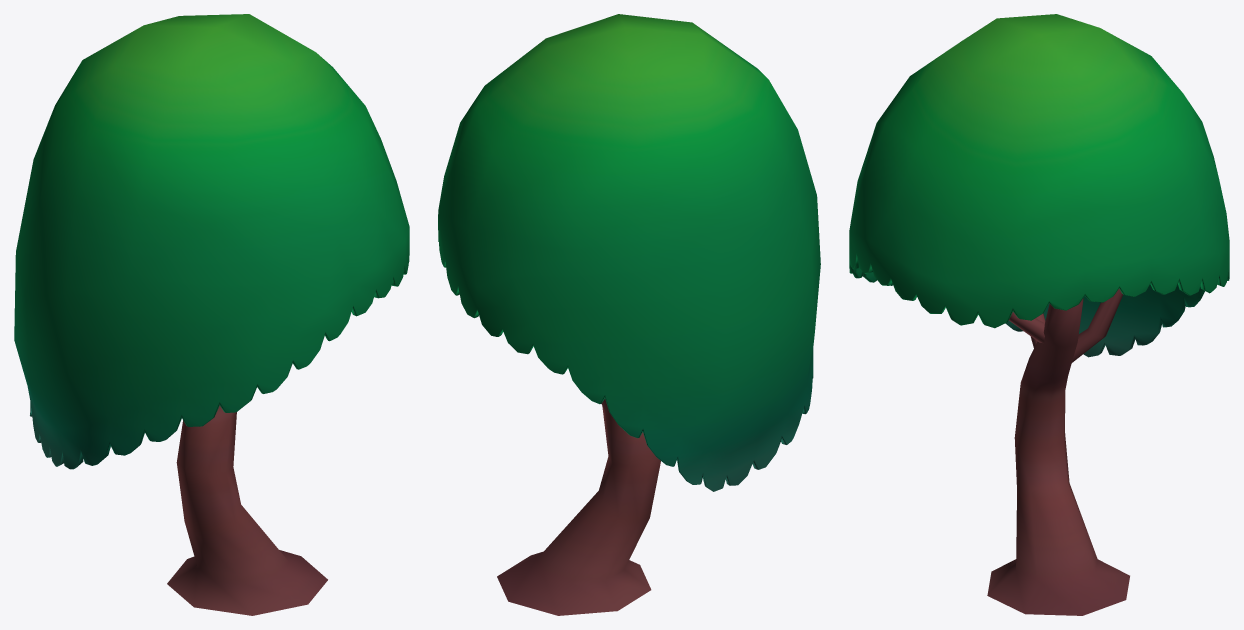
Rendered from arboles9.fbx.
3 views of the same model, side by side, from view 1: azimuth 30°, elevation 25°; view 2: azimuth 150°, elevation 25°; view 3: azimuth 270°, elevation 25° (orthographic). The views are drawn at different scales.
Visible parts, largest first — view 1: Tree.018_Base_Material_0.003; view 2: Tree.018_Base_Material_0.003; view 3: Tree.018_Base_Material_0.003.
Part boxes in pixels (<box>): Tree.018_Base_Material_0.003: <box>14,14,409,615</box>; Tree.018_Base_Material_0.003: <box>438,14,820,615</box>; Tree.018_Base_Material_0.003: <box>849,14,1229,615</box>.
Size of the model in its own units: 331 by 529 by 343.
